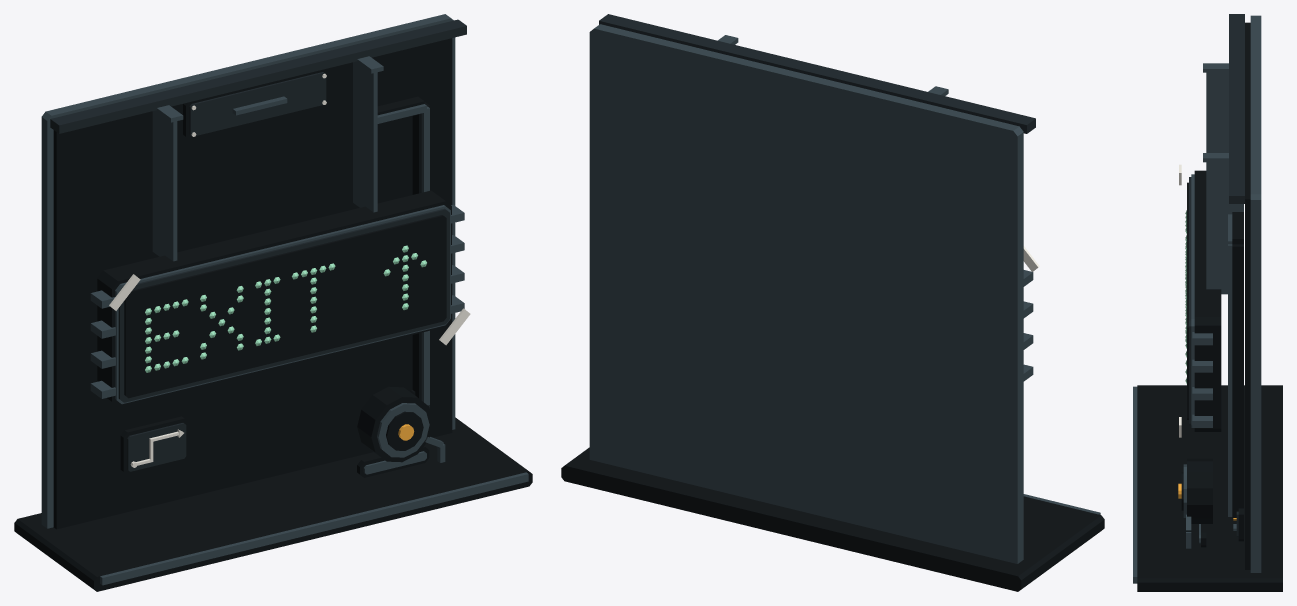
3 views of the same model, side by side, from view 1: azimuth 30°, elevation 25°; view 2: azimuth 150°, elevation 25°; view 3: azimuth 270°, elevation 25° (orthographic). The views are drawn at different scales.
Visible parts, largest first — view 1: Exit Liquidity sign; view 2: Exit Liquidity sign; view 3: Exit Liquidity sign.
Boxes of the visible parts, left/top/right/bottom form: Exit Liquidity sign: left=14, top=14, right=532, bottom=591; Exit Liquidity sign: left=561, top=14, right=1104, bottom=591; Exit Liquidity sign: left=1133, top=14, right=1282, bottom=591.
Size of the model in its own units: 1.08 by 1 by 0.3475.
